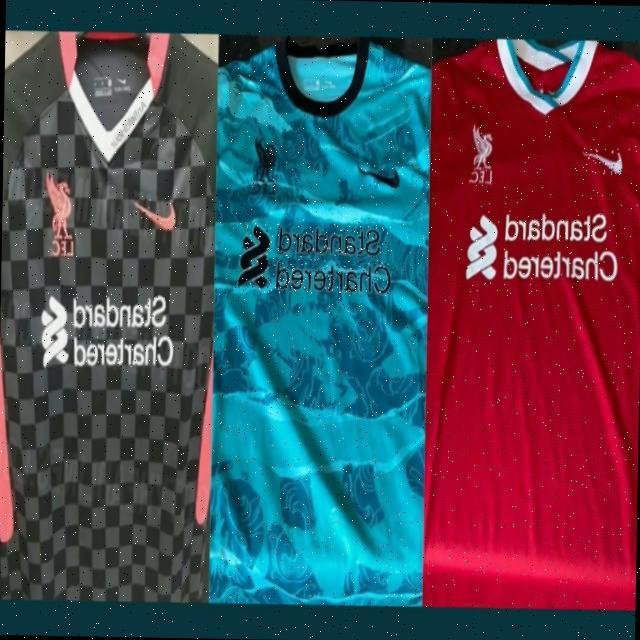Nike: (132, 193, 176, 230), (360, 165, 403, 192), (586, 148, 623, 174)
Standard Chartered: (466, 210, 620, 288), (238, 223, 391, 297), (39, 289, 174, 370)
